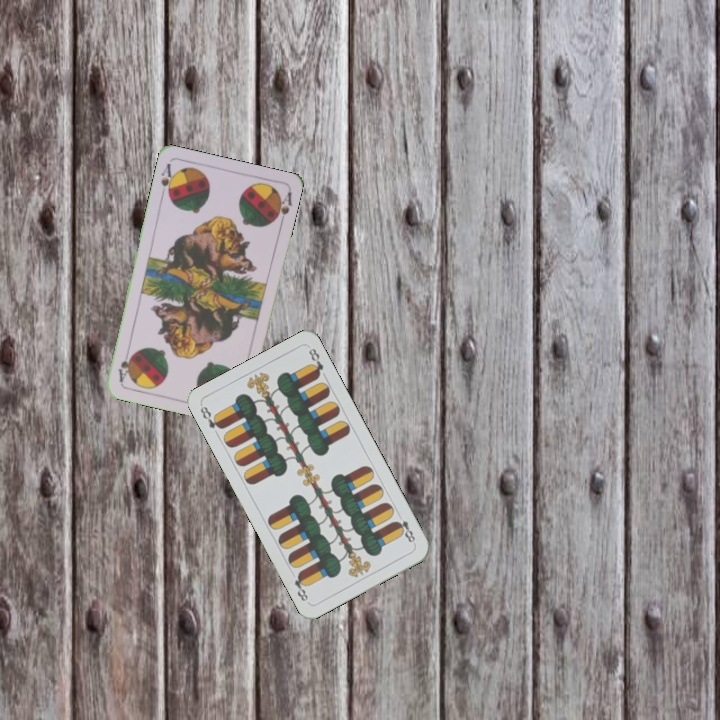E8: (196, 402, 225, 432), (391, 515, 418, 547)
SA: (157, 159, 177, 201)
